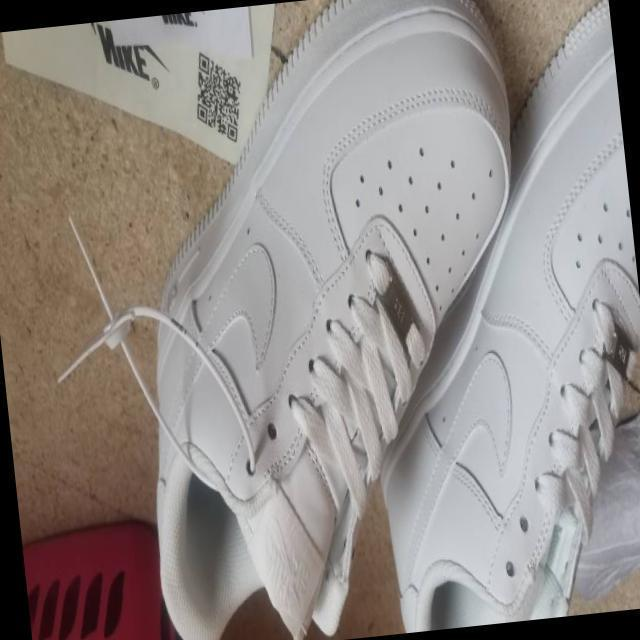nike fake air force: (97, 0, 561, 640), (327, 0, 640, 634)
